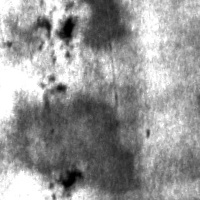inclusion: (39, 11, 80, 47), (49, 165, 87, 198)
patches: (2, 90, 141, 199), (70, 0, 129, 50)
